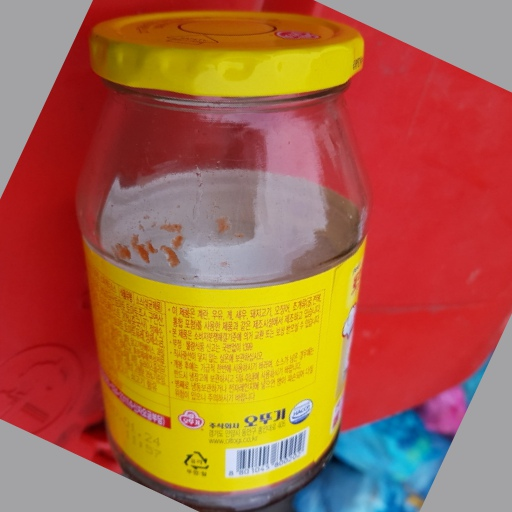Glass_5: (79, 11, 376, 505)
